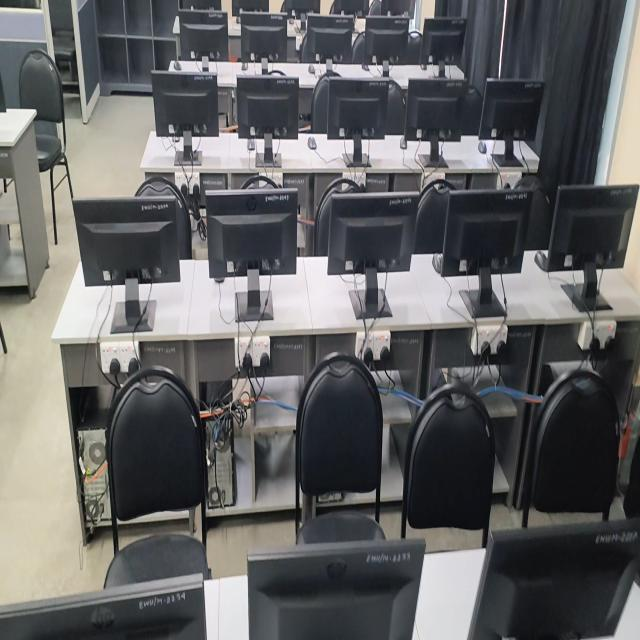Chair: (104, 366, 211, 588), (296, 354, 386, 543), (520, 368, 621, 526), (401, 384, 496, 546), (19, 50, 73, 245), (136, 177, 191, 258), (309, 178, 365, 255), (413, 180, 457, 254), (311, 70, 340, 133), (240, 174, 280, 189)
Cpu: (203, 382, 247, 508), (78, 428, 110, 533)
Monitor: (467, 519, 640, 639), (247, 540, 425, 639), (0, 574, 206, 639), (73, 181, 190, 286), (327, 192, 420, 316), (206, 185, 297, 278), (441, 191, 534, 279), (546, 186, 640, 271), (405, 76, 470, 165), (478, 79, 545, 164), (237, 74, 299, 162), (151, 70, 218, 136), (327, 78, 389, 140), (176, 10, 228, 61), (300, 14, 354, 63), (419, 17, 467, 69), (362, 15, 409, 67), (241, 11, 287, 63), (281, 0, 320, 19), (369, 0, 411, 16), (329, 0, 368, 17), (232, 0, 269, 17), (179, 0, 221, 10)
Mouse: (534, 251, 549, 271), (432, 253, 443, 274), (307, 137, 316, 149), (247, 139, 255, 151), (479, 140, 486, 153), (361, 62, 370, 71), (173, 59, 181, 69), (400, 139, 407, 150), (241, 62, 248, 71), (308, 65, 315, 74), (422, 63, 429, 69)
